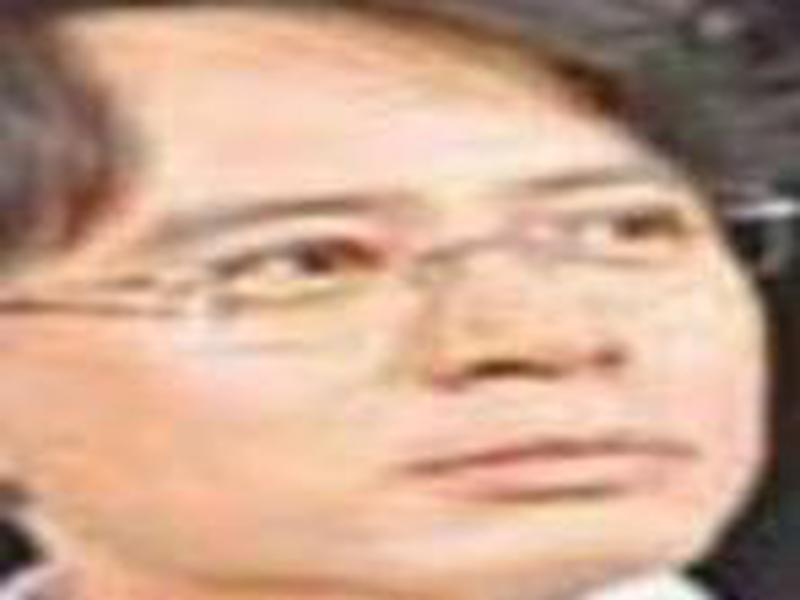without_mask: (2, 19, 772, 599)
